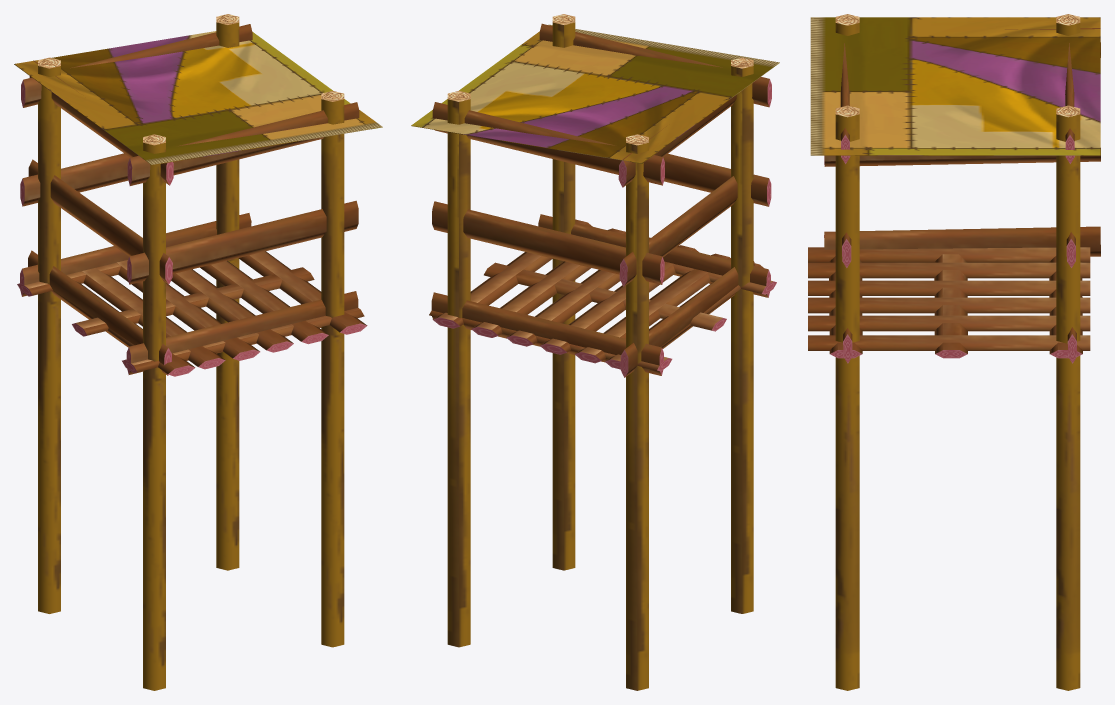
The model's file is tower 1.FBX.
3 renders of one model, left to right at view 1: azimuth 30°, elevation 25°; view 2: azimuth 150°, elevation 25°; view 3: azimuth 270°, elevation 25°, orthographic. The views are drawn at different scales.
Parts seen in each view (by area): view 1: Cylinder011; view 2: Cylinder011; view 3: Cylinder011.
Boxes of the visible parts, <box> form: Cylinder011: <box>14,14,382,690</box>; Cylinder011: <box>411,14,779,690</box>; Cylinder011: <box>808,14,1100,690</box>.
Bounding box in the file's own units: 68.24 × 150 × 69.45.
